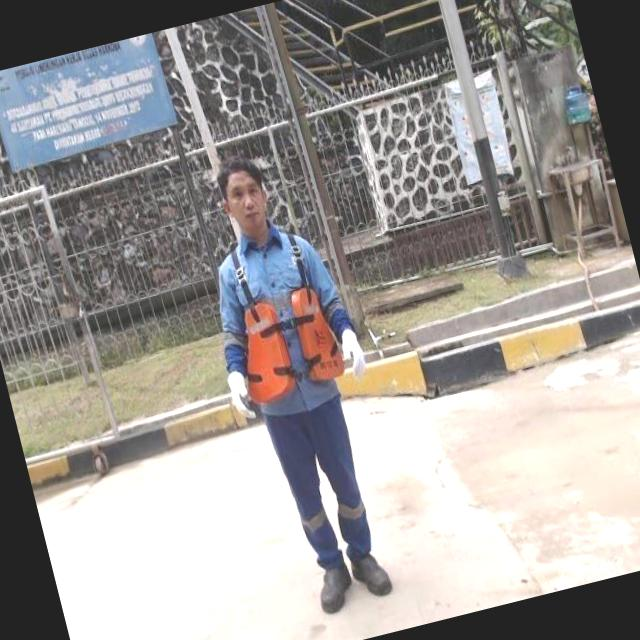vest: (227, 283, 350, 406)
